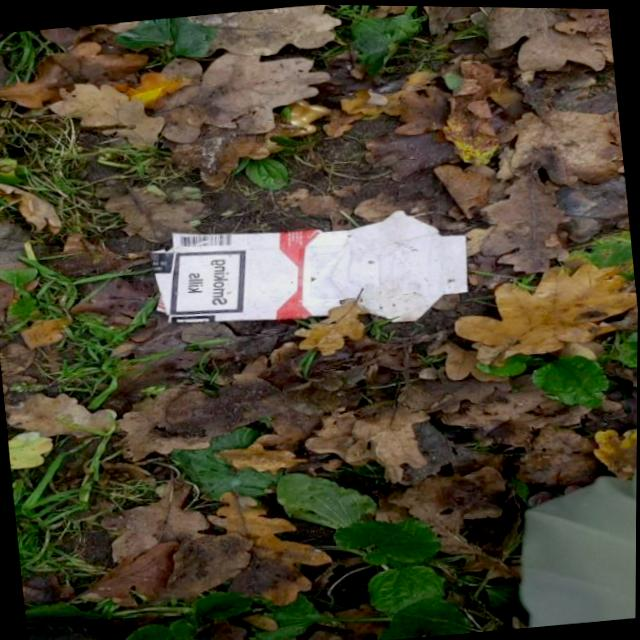Paper: (145, 195, 477, 348)
